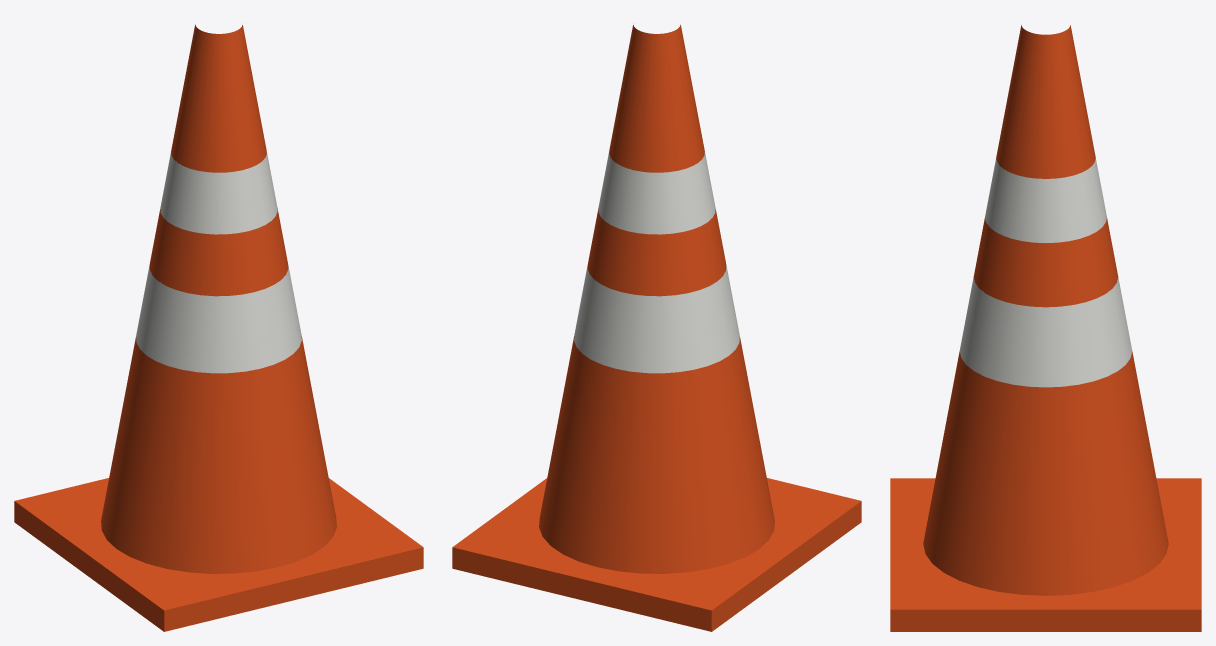
Rendered from p-cono.glb.
3 renders of one model, left to right at view 1: azimuth 30°, elevation 25°; view 2: azimuth 150°, elevation 25°; view 3: azimuth 270°, elevation 25°, orthographic. The views are drawn at different scales.
Bounding box in the file's own units: 0.38 × 0.73 × 0.38.
